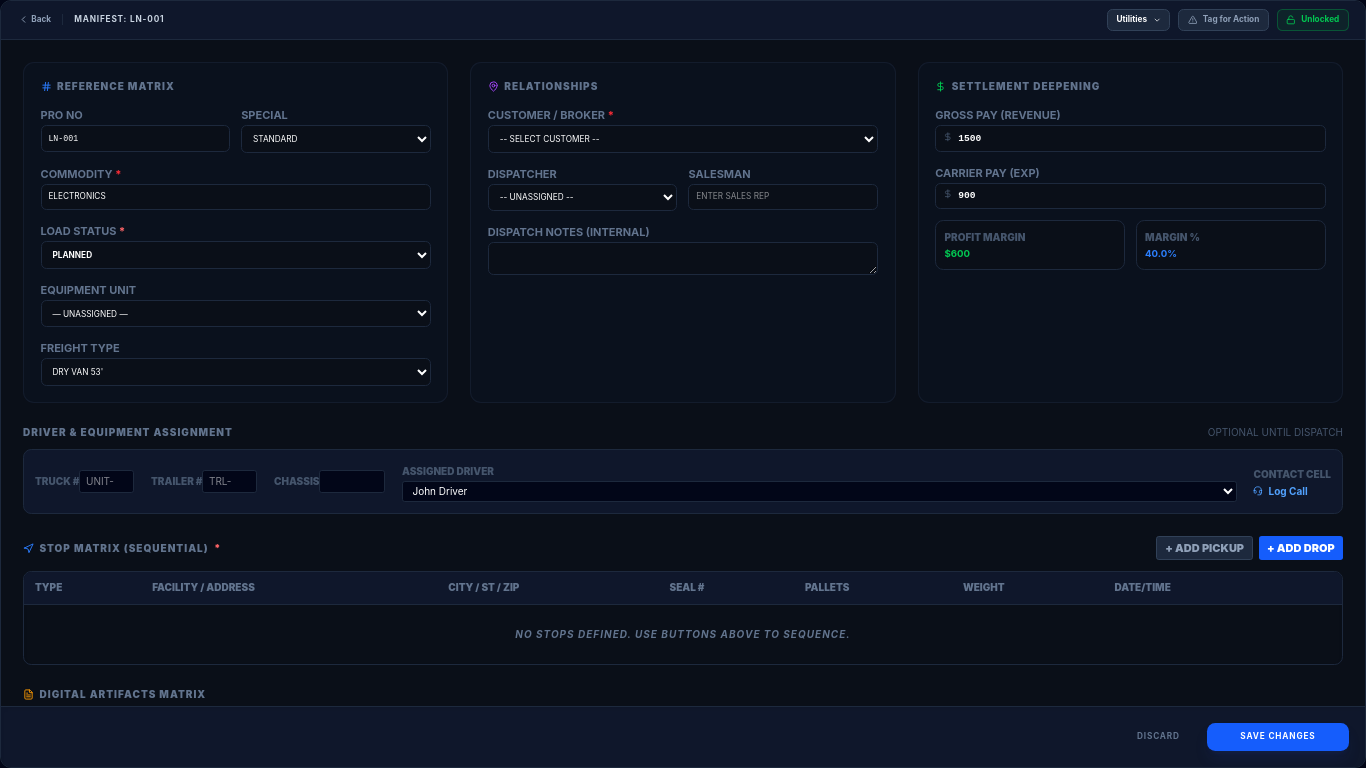
it: EditLoadForm component › interactive elements › disables save button when load is locked
Click the button "Unlocked". click: click(1313, 20)
box: [1277,9,1348,31]
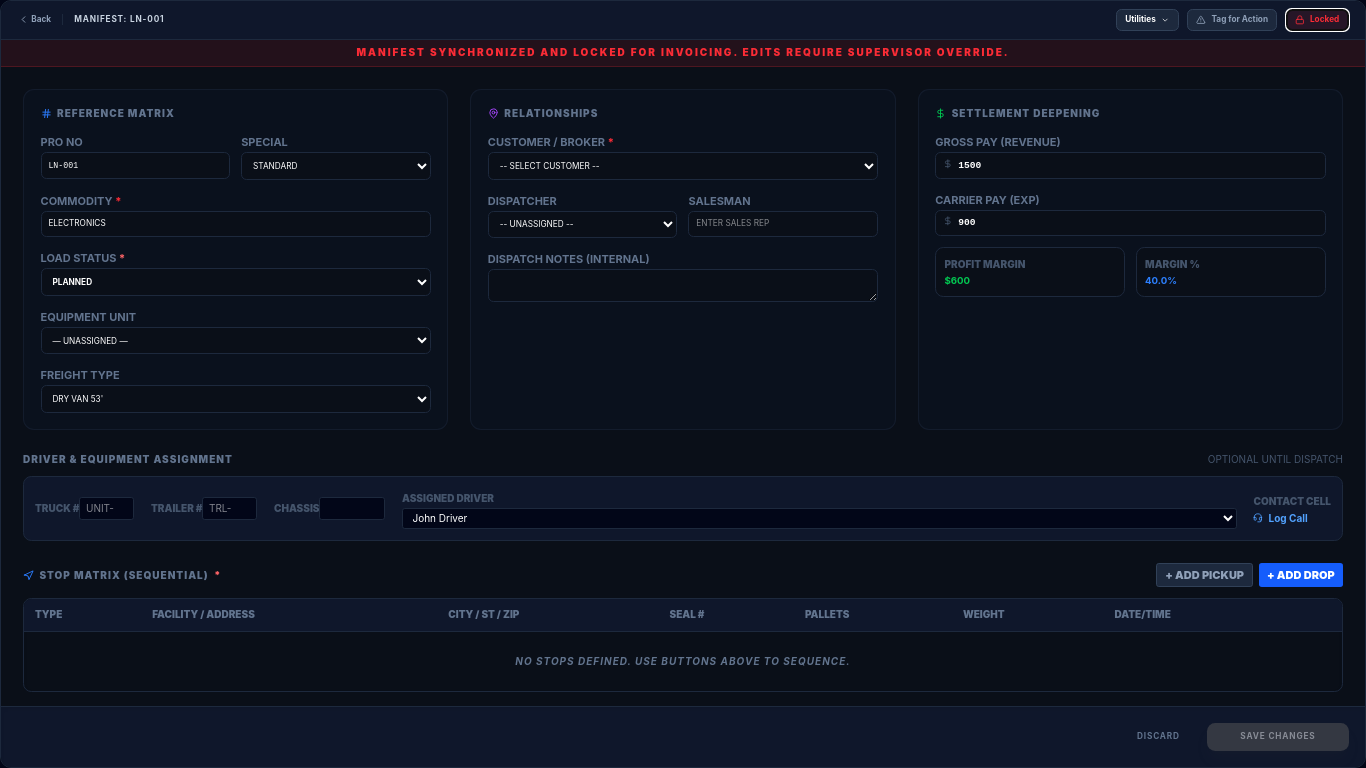
Check: the button "Save Changes" is disabled, box [1207,723,1348,750]
